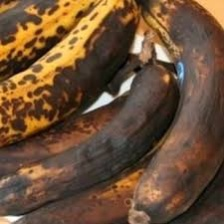banana: (24, 32, 194, 192)
